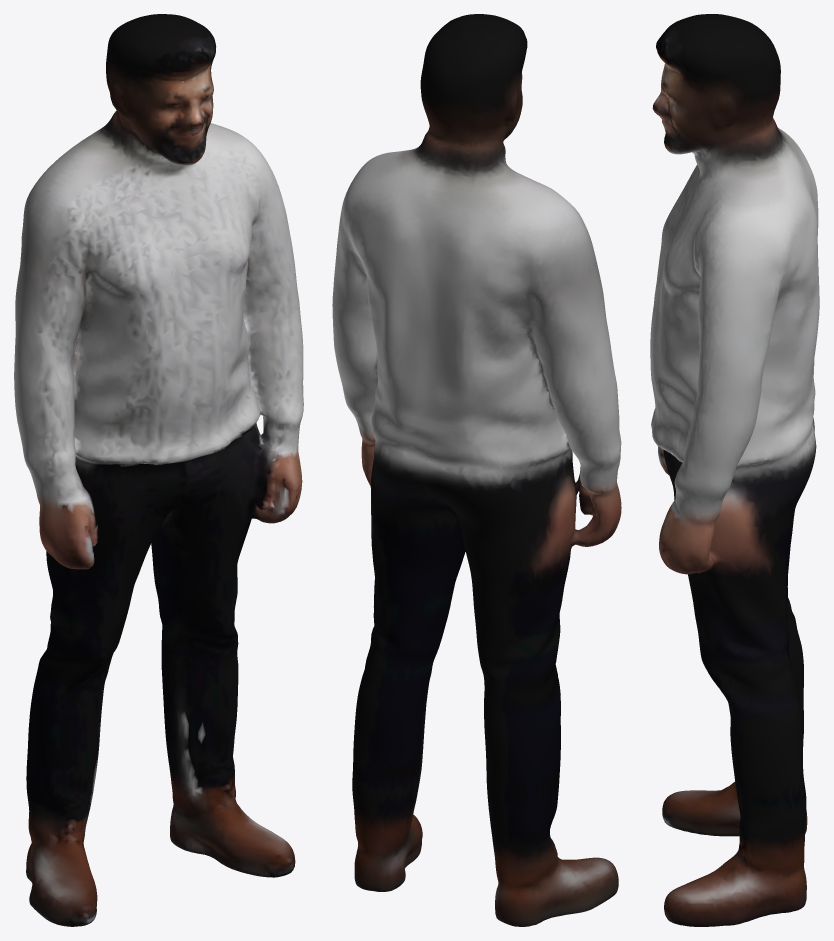
The model's file is sumith-adult.glb.
The picture shows the model from 3 angles, left to right: view 1: azimuth 30°, elevation 25°; view 2: azimuth 150°, elevation 25°; view 3: azimuth 270°, elevation 25°; orthographic projection.
Visible parts, largest first — view 1: sumith; view 2: sumith; view 3: sumith.
Part boxes in pixels (x1,y1,x2,y2): sumith: [14, 14, 303, 926]; sumith: [332, 14, 621, 926]; sumith: [650, 14, 819, 926].
Size of the model in its own units: 0.6612 by 1.96 by 0.3534.
